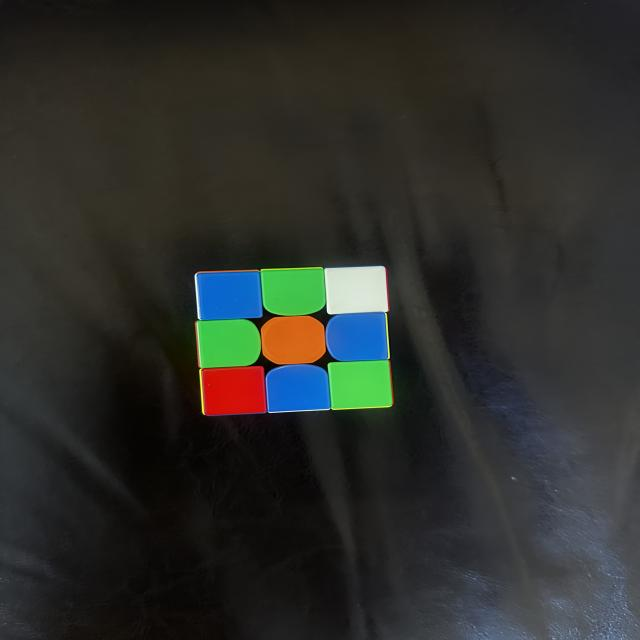sticker: (197, 364, 268, 418), (194, 270, 264, 323), (322, 264, 391, 316), (327, 359, 393, 411), (195, 319, 262, 370), (324, 312, 389, 364), (260, 316, 327, 366), (264, 364, 330, 414), (260, 267, 326, 317)
